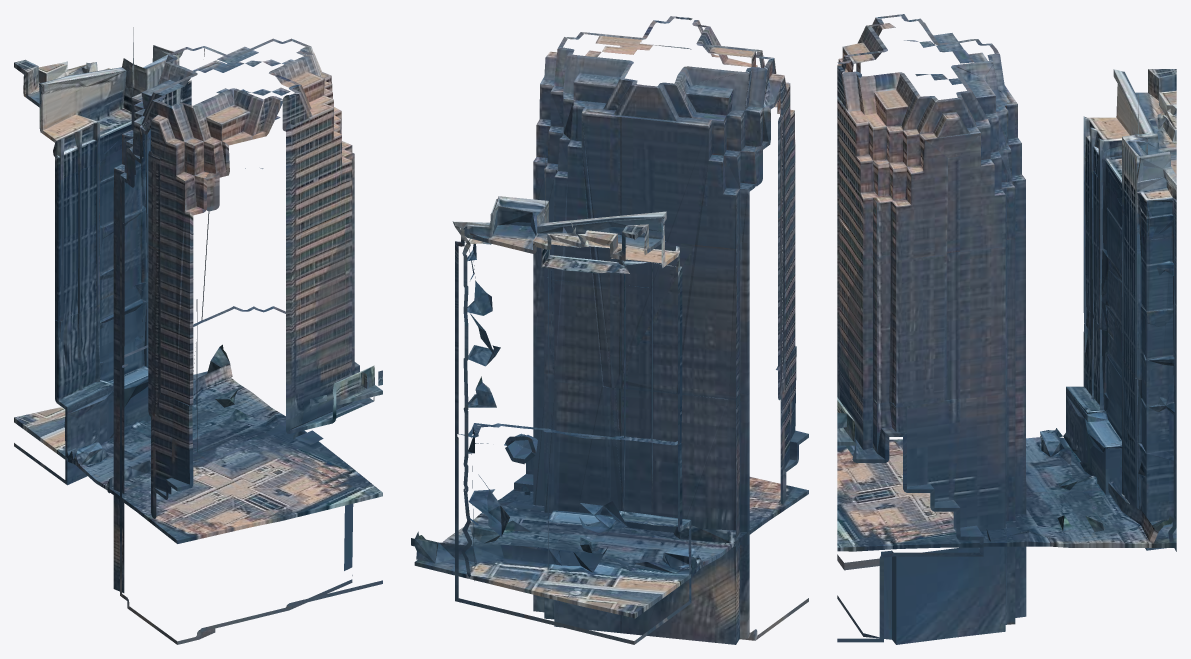
Rendered from chunk_2_9.glb.
The picture shows the model from 3 angles, left to right: view 1: azimuth 30°, elevation 25°; view 2: azimuth 150°, elevation 25°; view 3: azimuth 270°, elevation 25°; orthographic projection. The views are drawn at different scales.
Visible parts, largest first — view 1: hero-chunk; view 2: hero-chunk; view 3: hero-chunk.
Part boxes in pixels (<box>): hero-chunk: <box>14,27,382,644</box>; hero-chunk: <box>411,16,808,644</box>; hero-chunk: <box>837,14,1176,644</box>.
Bounding box in the file's own units: 56.66 × 135 × 76.33.
Materials: 3 (3 with a texture image).
